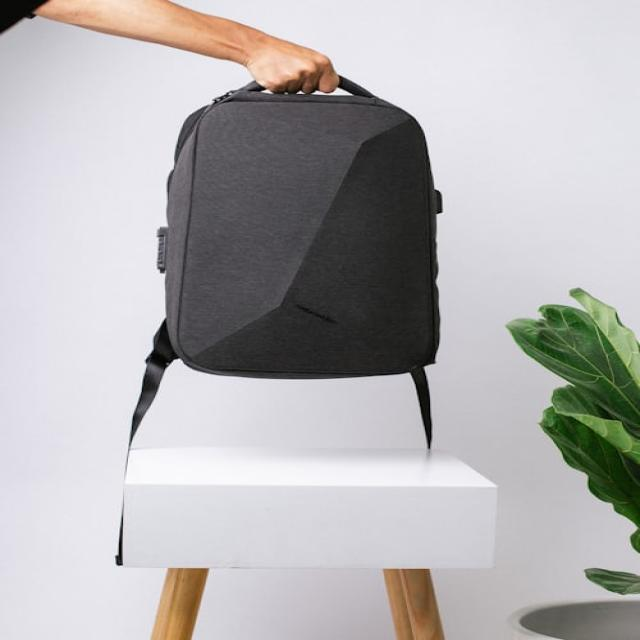backpack: (116, 74, 445, 565)
